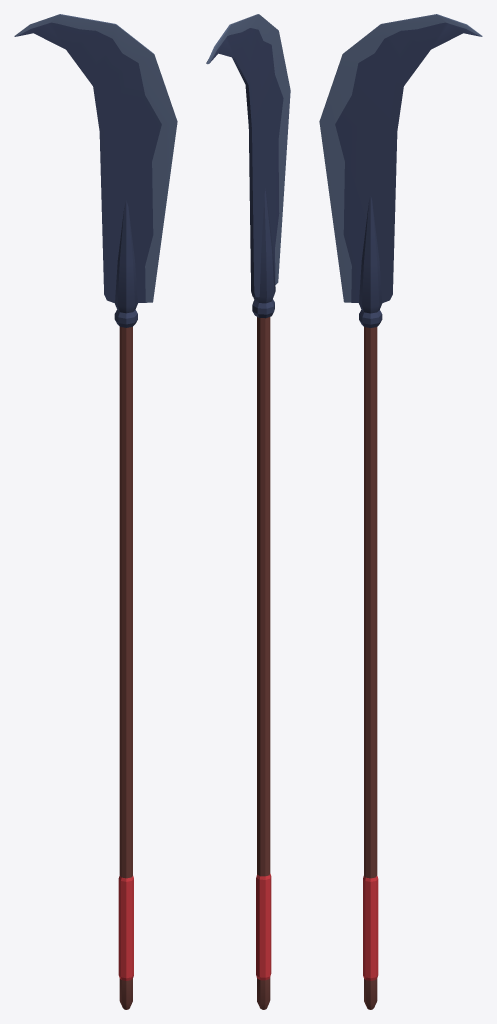
File: Polearm_08.fbx
3 views of the same model, side by side, from view 1: azimuth 90°, elevation 25°; view 2: azimuth 150°, elevation 25°; view 3: azimuth 270°, elevation 25° (orthographic).
Parts seen in each view (by area): view 1: Polearm_08; view 2: Polearm_08; view 3: Polearm_08.
Part boxes in pixels (x1=…): Polearm_08: x1=14, y1=14, x2=177, y2=1009; Polearm_08: x1=206, y1=14, x2=290, y2=1009; Polearm_08: x1=319, y1=14, x2=482, y2=1009.
Bounding box in the file's own units: 6.85 × 306 × 45.41.
